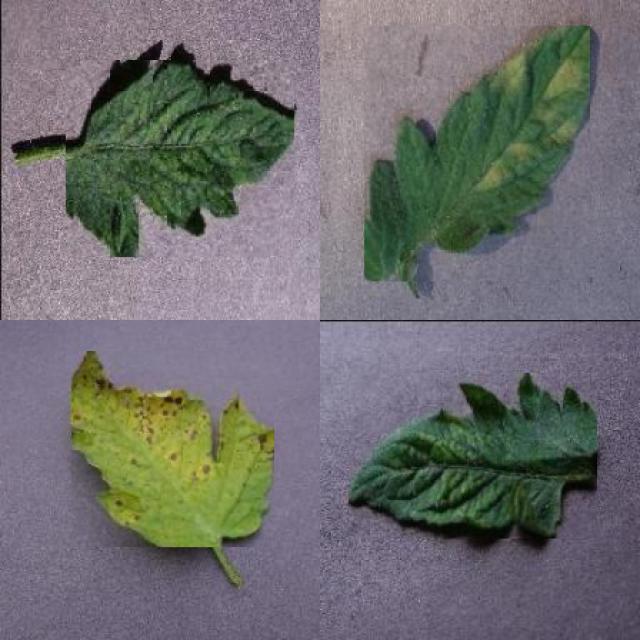Leaf Mold: (365, 26, 591, 281)
Mosaic Virus: (66, 60, 294, 257), (348, 374, 598, 539)
Septoria: (72, 350, 274, 547)
